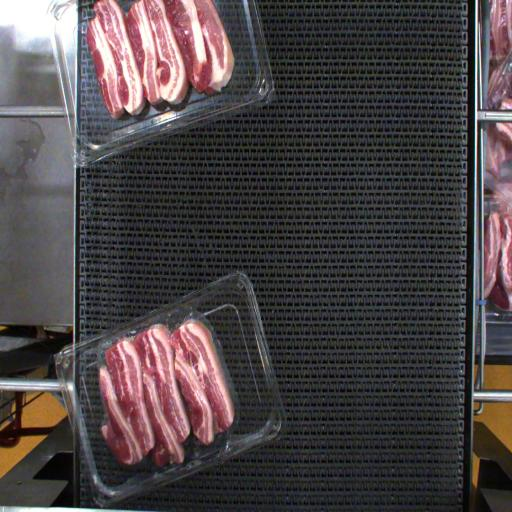unsealed: (95, 293, 243, 445)
